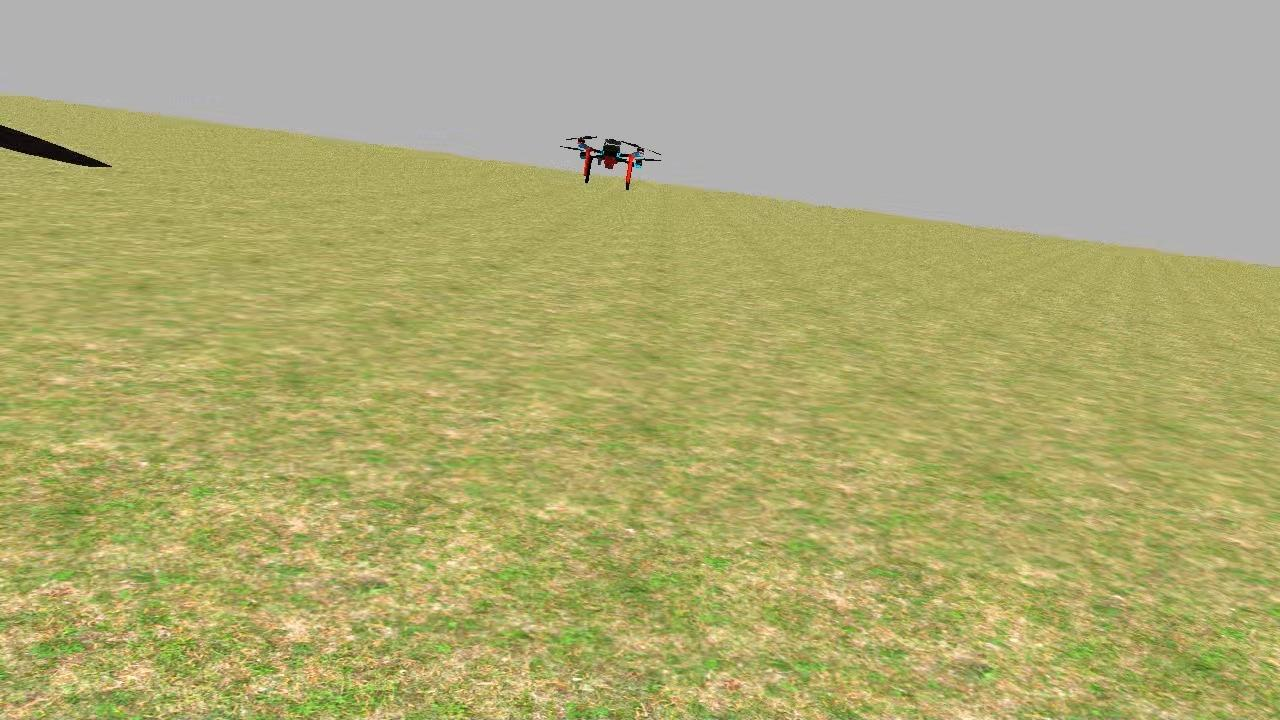UAV: (561, 124, 658, 197)
